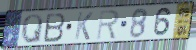6: (153, 6, 172, 38)
8: (128, 7, 149, 40)
B: (42, 12, 67, 44)
K: (73, 11, 95, 42)
Q: (20, 13, 44, 45)
R: (95, 9, 121, 42)
